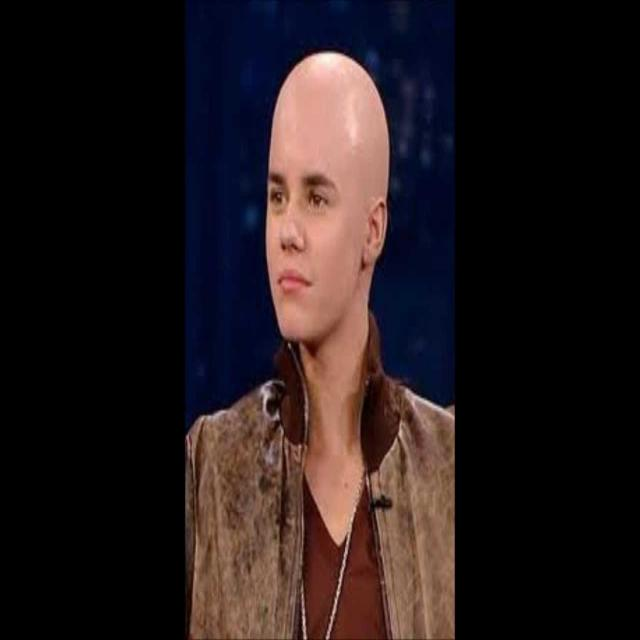no_helmet: (255, 39, 404, 209)
